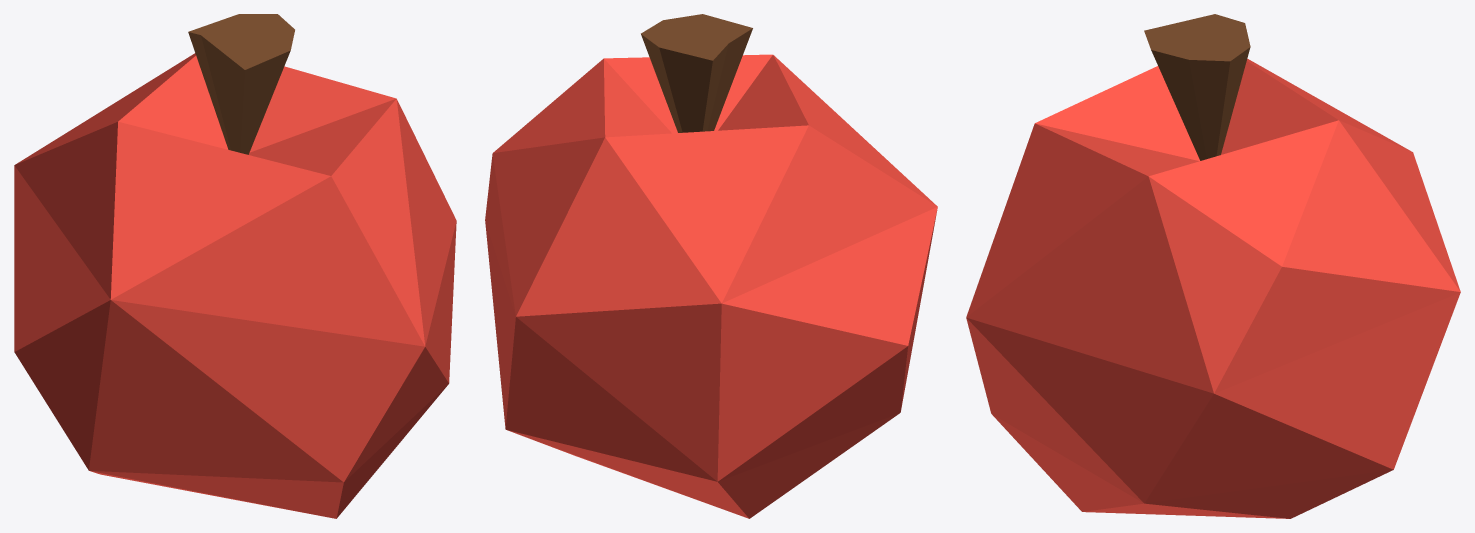
File: Apple.fbx
3 views of the same model, side by side, from view 1: azimuth 30°, elevation 25°; view 2: azimuth 150°, elevation 25°; view 3: azimuth 270°, elevation 25° (orthographic). The views are drawn at different scales.
Visible parts, largest first — view 1: Icosphere, Cone; view 2: Icosphere, Cone; view 3: Icosphere, Cone.
Part boxes in pixels (x1=…): Icosphere: x1=14, y1=53, x2=456, y2=518; Cone: x1=188, y1=14, x2=294, y2=154; Icosphere: x1=485, y1=54, x2=937, y2=518; Cone: x1=641, y1=14, x2=752, y2=132; Icosphere: x1=966, y1=58, x2=1460, y2=518; Cone: x1=1144, y1=14, x2=1250, y2=160.
Bounding box in the file's own units: 209 × 205 × 198.
